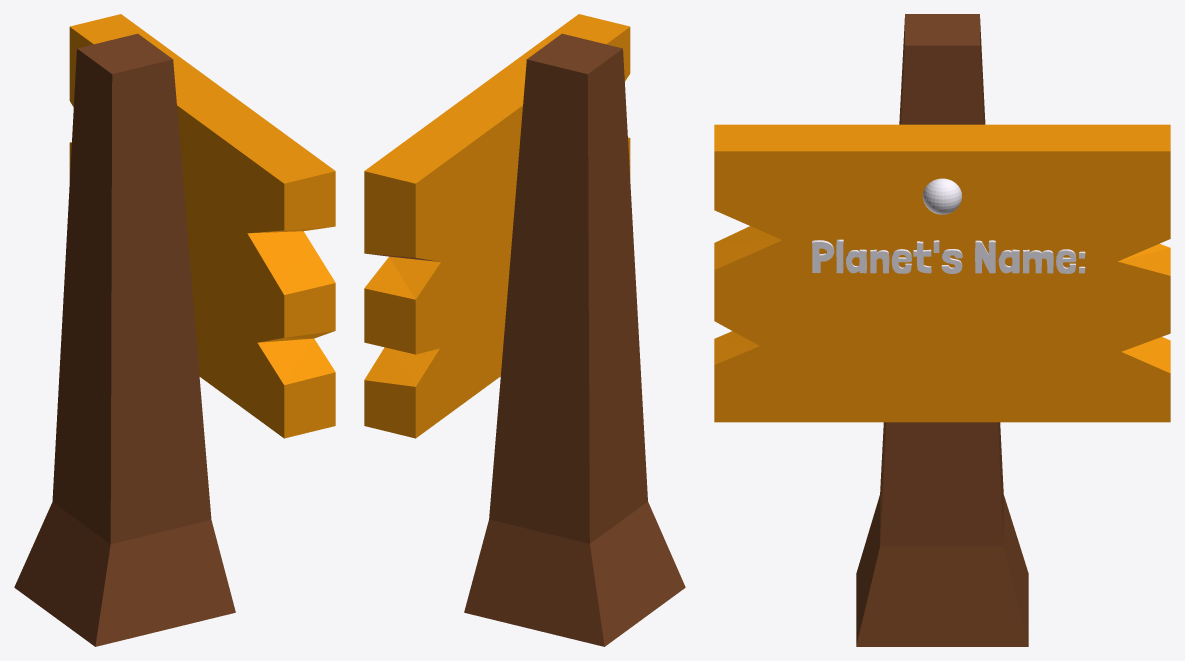
Rendered from PlacaName.gltf.
The picture shows the model from 3 angles, left to right: view 1: azimuth 30°, elevation 25°; view 2: azimuth 150°, elevation 25°; view 3: azimuth 270°, elevation 25°; orthographic projection. The views are drawn at different scales.
Parts seen in each view (by area): view 1: Prego.003; view 2: Prego.003; view 3: Prego.003.
Boxes of the visible parts, x1,y1,x2,y2 form: Prego.003: [14, 14, 335, 646]; Prego.003: [364, 14, 685, 646]; Prego.003: [714, 14, 1170, 646].
Bounding box in the file's own units: 1.58 × 4.42 × 3.15.
